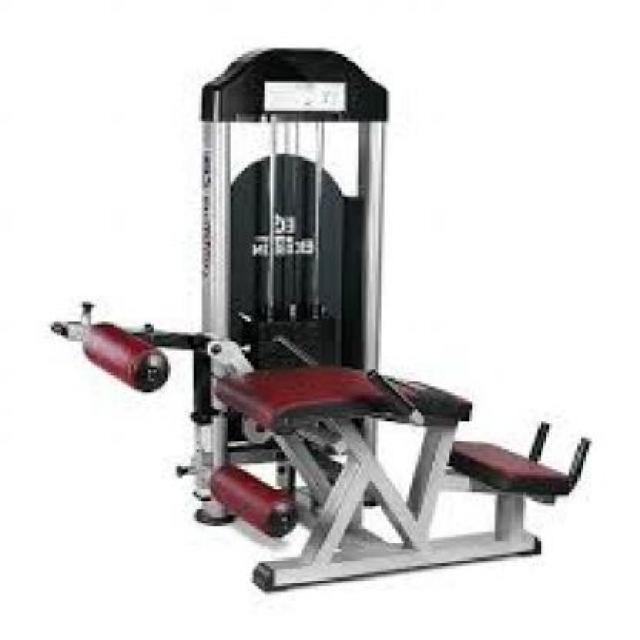reg curl machine: (54, 43, 598, 594)
